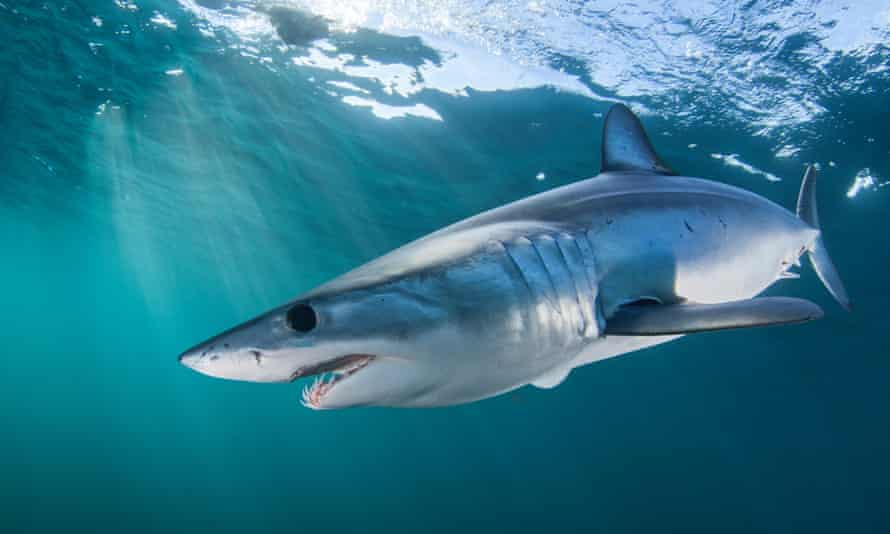shark: (171, 94, 849, 428)
